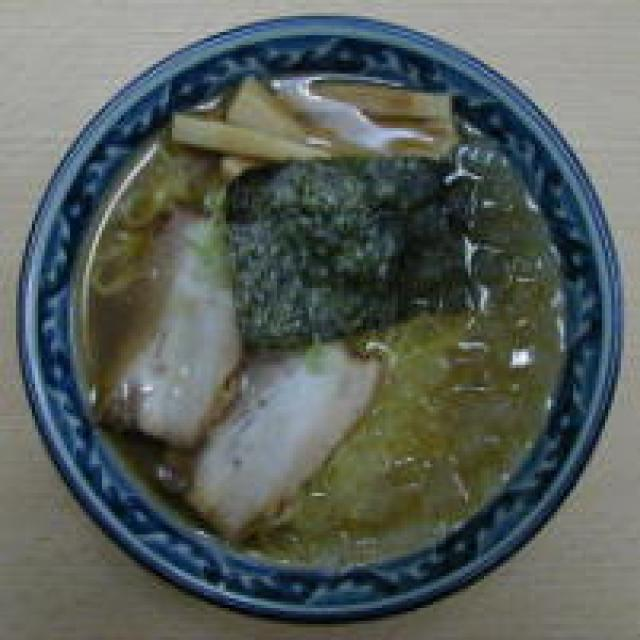面条主食: (16, 13, 618, 614)
